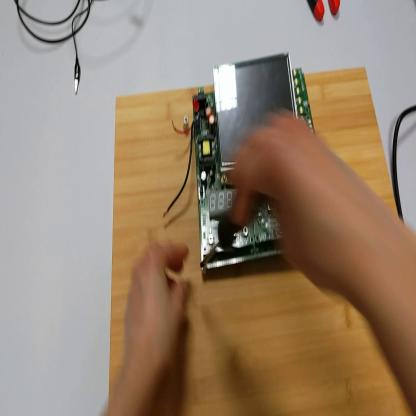hand: (227, 108, 366, 302), (122, 239, 189, 381)
low voltage board: (164, 51, 318, 267)
pliers: (308, 1, 342, 23)
screwdriver-: (202, 188, 249, 267)
working area: (109, 64, 416, 416)
